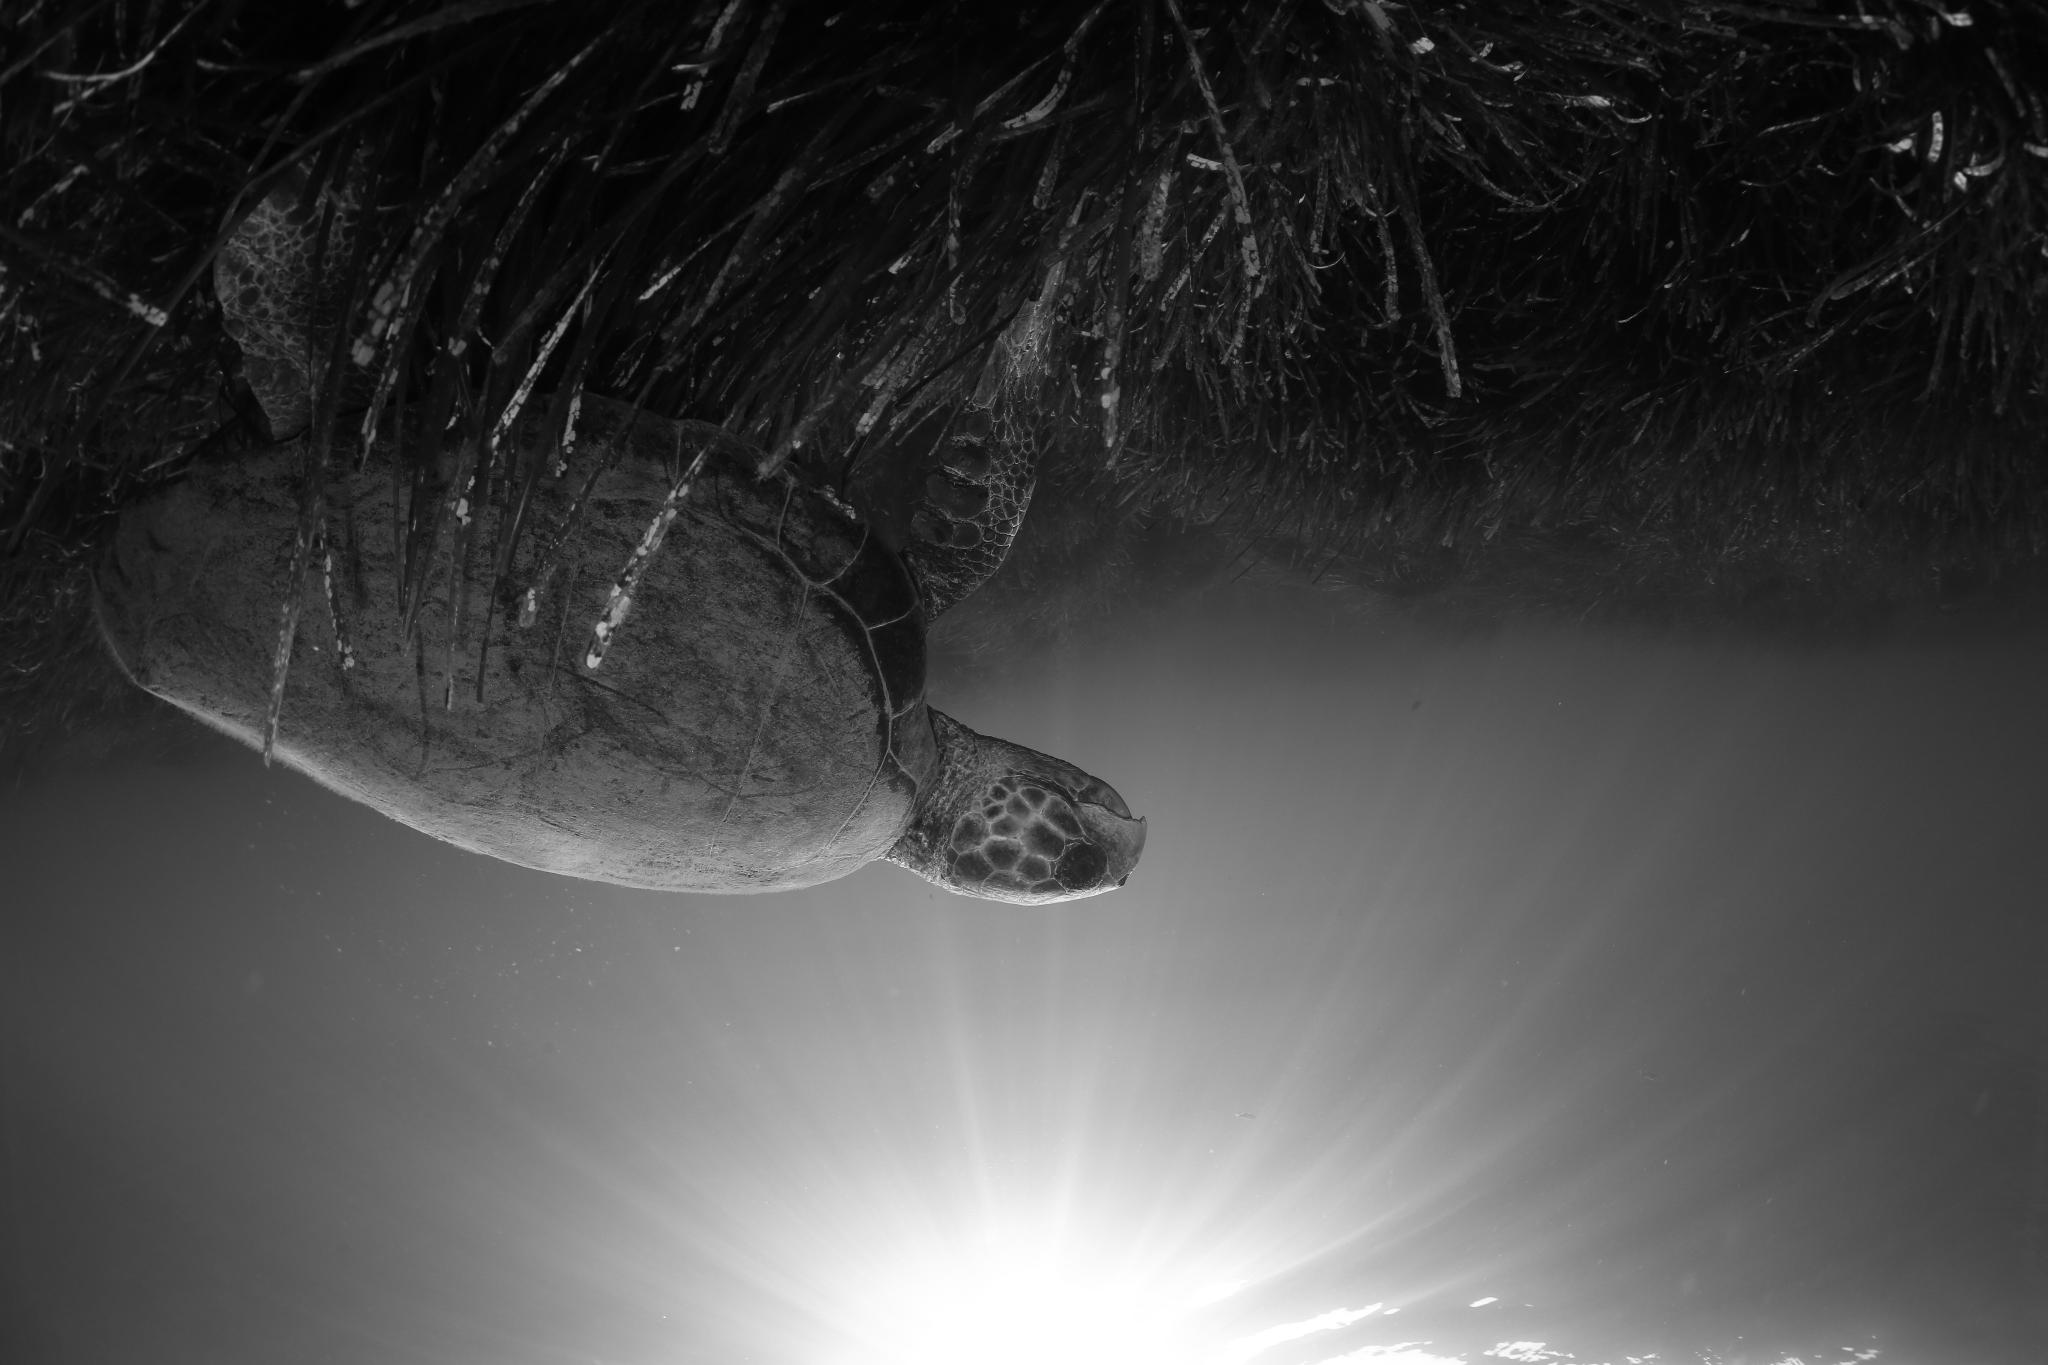Head: (887, 710, 1146, 905)
